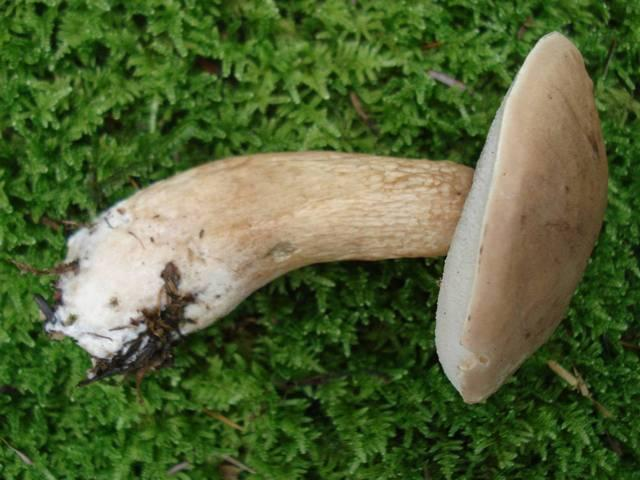Non-edible Mushroom: (34, 29, 610, 404), (432, 29, 609, 405)
